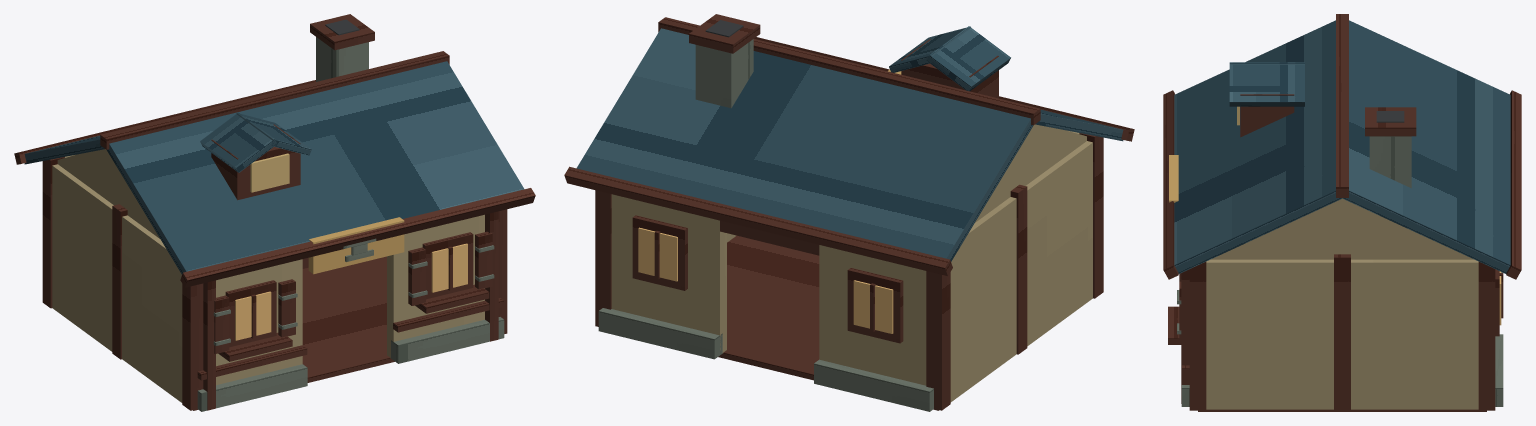
File: smithy_house.glb
The picture shows the model from 3 angles, left to right: view 1: azimuth 30°, elevation 25°; view 2: azimuth 150°, elevation 25°; view 3: azimuth 270°, elevation 25°; orthographic projection. The views are drawn at different scales.
Visible parts, largest first — view 1: _MeshInstance3D_102, _MeshInstance3D_127, Floor, _MeshInstance3D_103, _MeshInstance3D_78, Ridge, DoorSideWall, Gable, _MeshInstance3D_86, _MeshInstance3D_97, DormerRoof, _MeshInstance3D_96 (+25 smaller); view 2: RoofSlope, _MeshInstance3D_127, Floor, _MeshInstance3D_71, _MeshInstance3D_125, EaveTrim, Ridge, Gable, TimberPost, _MeshInstance3D_92, Foundation, Chimney (+14 smaller); view 3: SideWall, RoofSlope, _MeshInstance3D_102, _MeshInstance3D_101, _MeshInstance3D_117, _MeshInstance3D_90, _MeshInstance3D_89, _MeshInstance3D_91, Ridge, EaveTrim, _MeshInstance3D_103, Chimney (+9 smaller).
Boxes of the visible parts, bbox=[...] form: _MeshInstance3D_102: bbox=[107, 61, 524, 274]; _MeshInstance3D_127: bbox=[52, 164, 182, 402]; Floor: bbox=[193, 256, 394, 410]; _MeshInstance3D_103: bbox=[180, 188, 535, 287]; _MeshInstance3D_78: bbox=[387, 214, 484, 358]; Ridge: bbox=[100, 51, 449, 149]; DoorSideWall: bbox=[216, 259, 302, 385]; Gable: bbox=[57, 149, 159, 238]; _MeshInstance3D_86: bbox=[182, 283, 203, 410]; _MeshInstance3D_97: bbox=[391, 317, 504, 363]; DormerRoof: bbox=[200, 112, 277, 172]; _MeshInstance3D_96: bbox=[197, 364, 307, 411]; RoofSlope: bbox=[576, 28, 1033, 261]; _MeshInstance3D_127: bbox=[950, 141, 1092, 402]; Floor: bbox=[718, 235, 939, 410]; _MeshInstance3D_71: bbox=[611, 194, 726, 352]; _MeshInstance3D_125: bbox=[819, 245, 926, 385]; EaveTrim: bbox=[564, 166, 952, 275]; Ridge: bbox=[658, 17, 1040, 125]; Gable: bbox=[975, 124, 1086, 222]; TimberPost: bbox=[926, 271, 950, 410]; _MeshInstance3D_92: bbox=[598, 308, 722, 359]; Foundation: bbox=[814, 359, 933, 411]; Chimney: bbox=[695, 39, 753, 108]; SideWall: bbox=[1206, 259, 1478, 409]; RoofSlope: bbox=[1341, 20, 1510, 273]; _MeshInstance3D_102: bbox=[1174, 20, 1342, 273]; _MeshInstance3D_101: bbox=[1211, 198, 1473, 259]; _MeshInstance3D_117: bbox=[1229, 62, 1304, 106]; _MeshInstance3D_90: bbox=[1334, 254, 1350, 410]; _MeshInstance3D_89: bbox=[1478, 262, 1495, 410]; _MeshInstance3D_91: bbox=[1189, 262, 1206, 410]; Ridge: bbox=[1336, 14, 1348, 197]; EaveTrim: bbox=[1506, 90, 1521, 279]; _MeshInstance3D_103: bbox=[1163, 90, 1178, 279]; Chimney: bbox=[1369, 136, 1411, 188].
Bounding box in the file's own units: 6.9 × 4.86 × 5.95.
11 materials, 4 textured.
